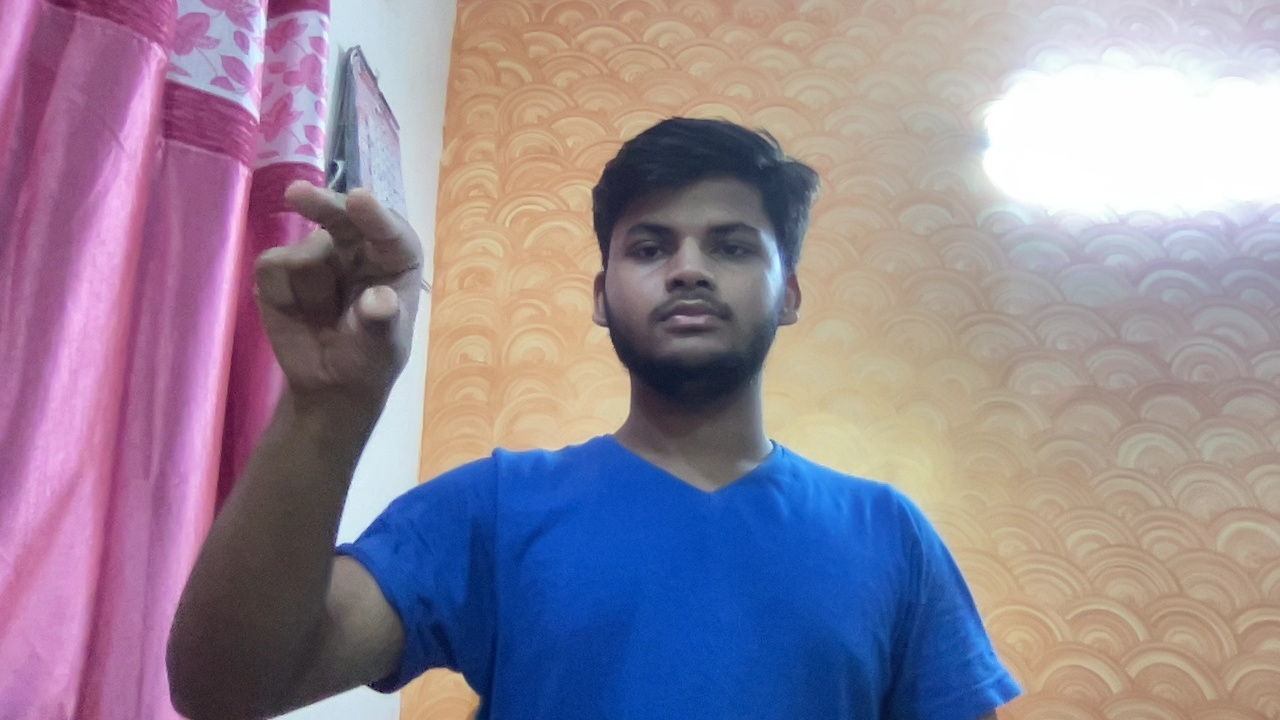no: (214, 160, 441, 448)
